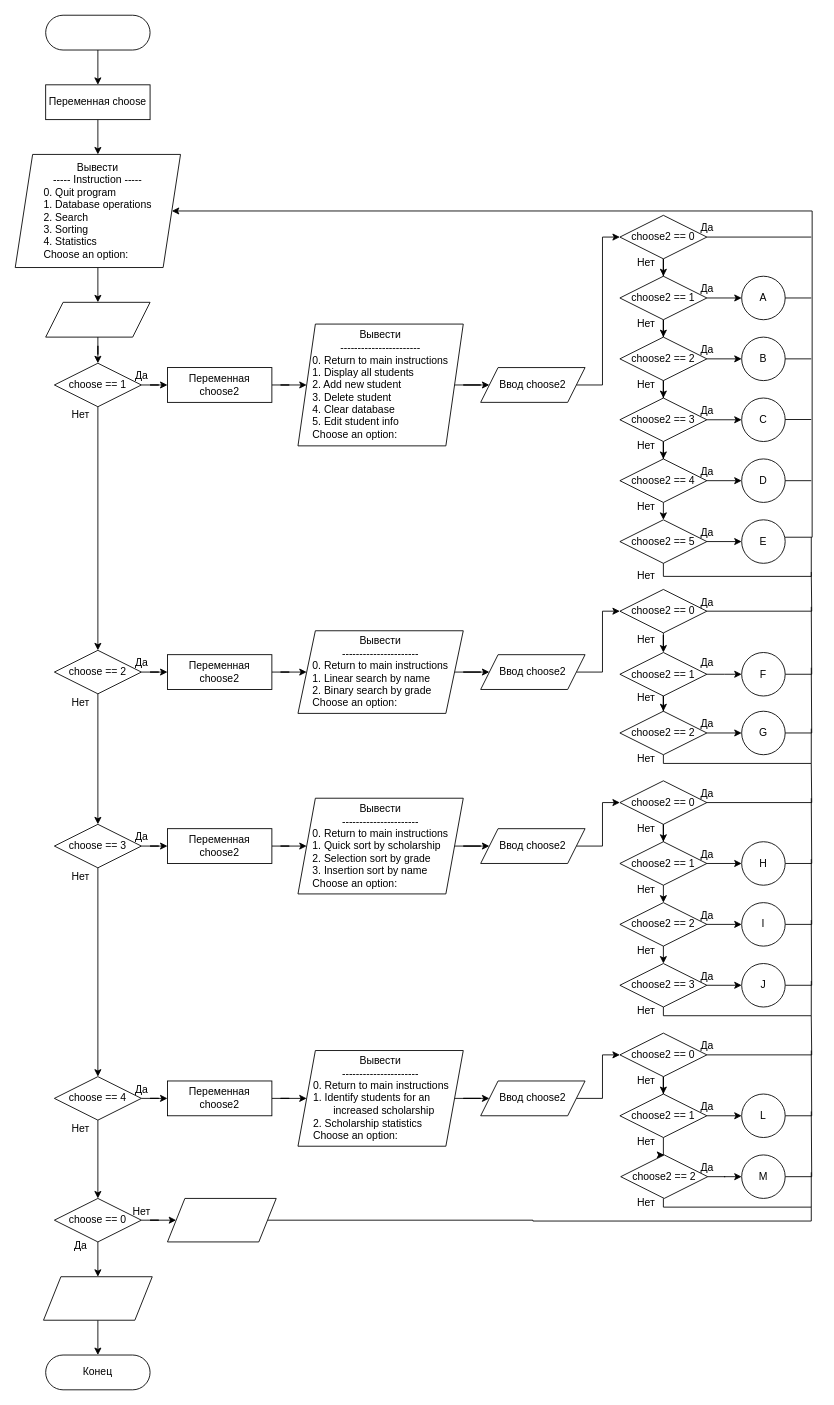
This 834x1405 diagram has some shape labels left out. The centre of each missing label's shape, as x and y in pixels:
"Ввод choose" belongs at pixel 97 319.
"Вывести Program exiting..." belongs at pixel 97 1298.
"Вывести Wrong choice." belongs at pixel 221 1220.
"Начало" belongs at pixel 97 32.
